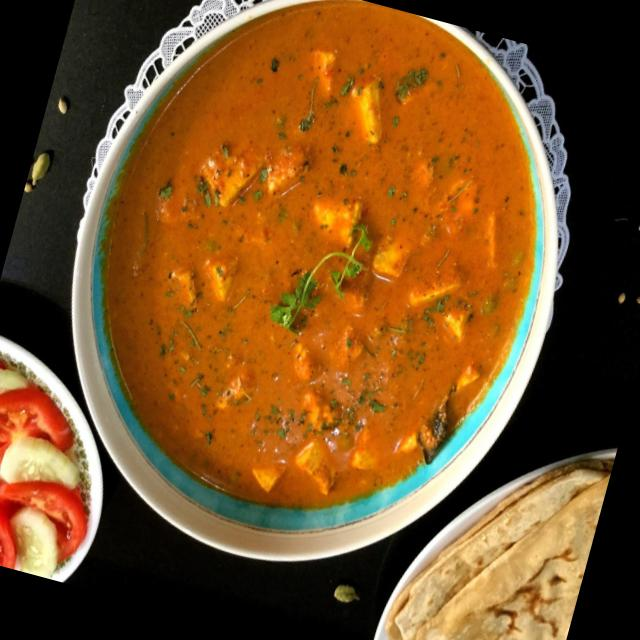ShahiPaneer: (51, 0, 588, 559)
